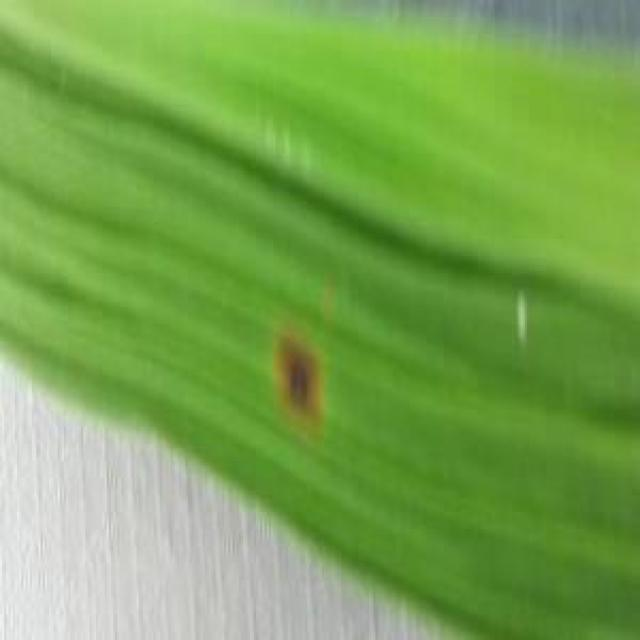Brown_Spot: (276, 334, 320, 422)
